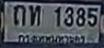1: (54, 6, 60, 26)
3: (63, 6, 73, 26)
5: (87, 7, 97, 26)
8: (76, 7, 84, 26)
A22: (13, 4, 25, 25)
A23: (28, 5, 40, 25)
BKK: (17, 34, 86, 45)
